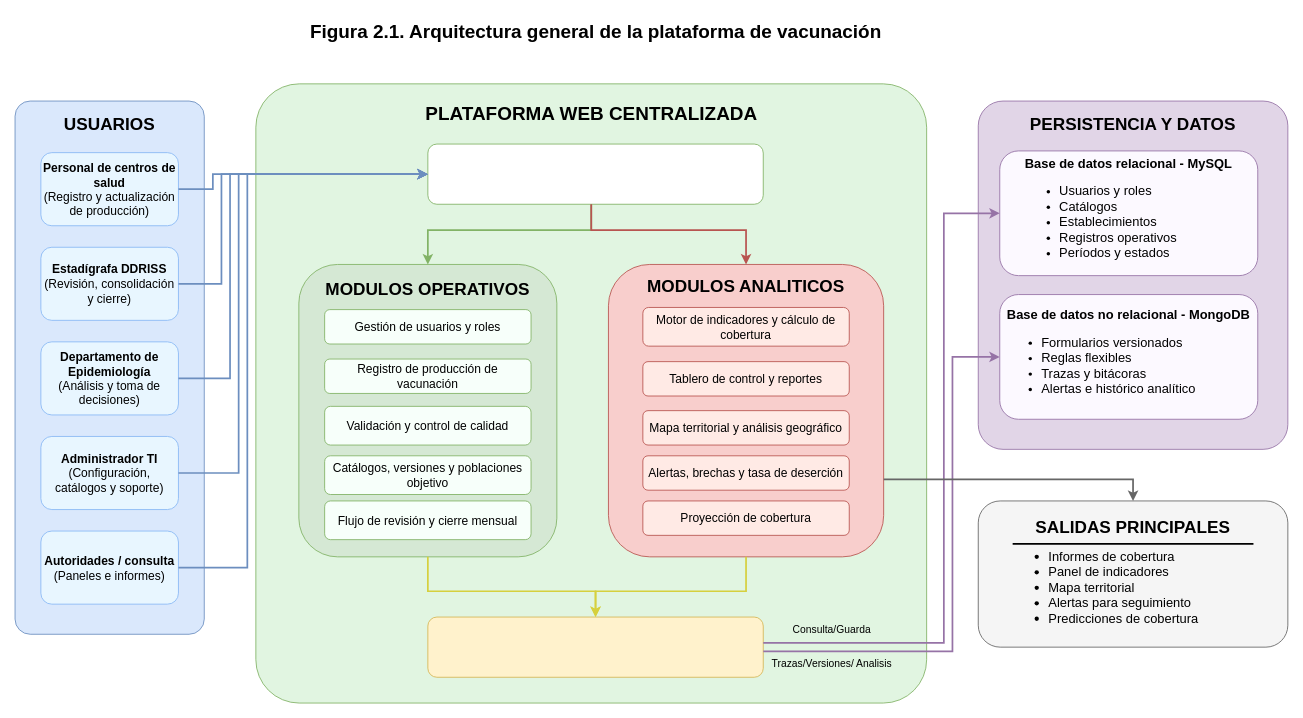
The diagram is 1303 pixels wide and 718 high, and some of its shapes have lost their labels. Each missing label, with the centre of its shape:
"API y lógica de negocios Node.js + Express" belongs at point (595, 646).
"Frontend web React" belongs at point (595, 173).
